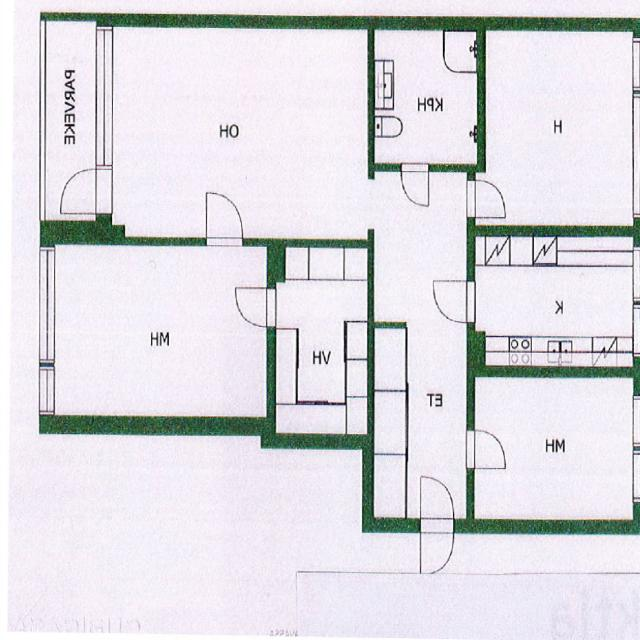door: (61, 169, 113, 214), (207, 192, 243, 246), (420, 517, 454, 574), (420, 476, 454, 532), (433, 281, 474, 322), (236, 288, 276, 326), (467, 429, 505, 468), (466, 180, 504, 217), (401, 163, 429, 205)
